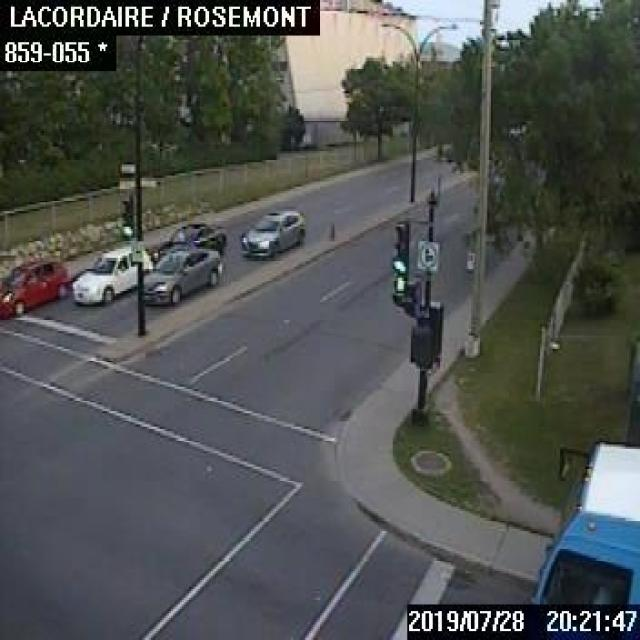bus: (525, 438, 638, 603)
vehicle: (70, 244, 151, 303), (142, 246, 220, 304), (0, 258, 67, 314), (148, 222, 225, 262), (239, 209, 304, 256)
